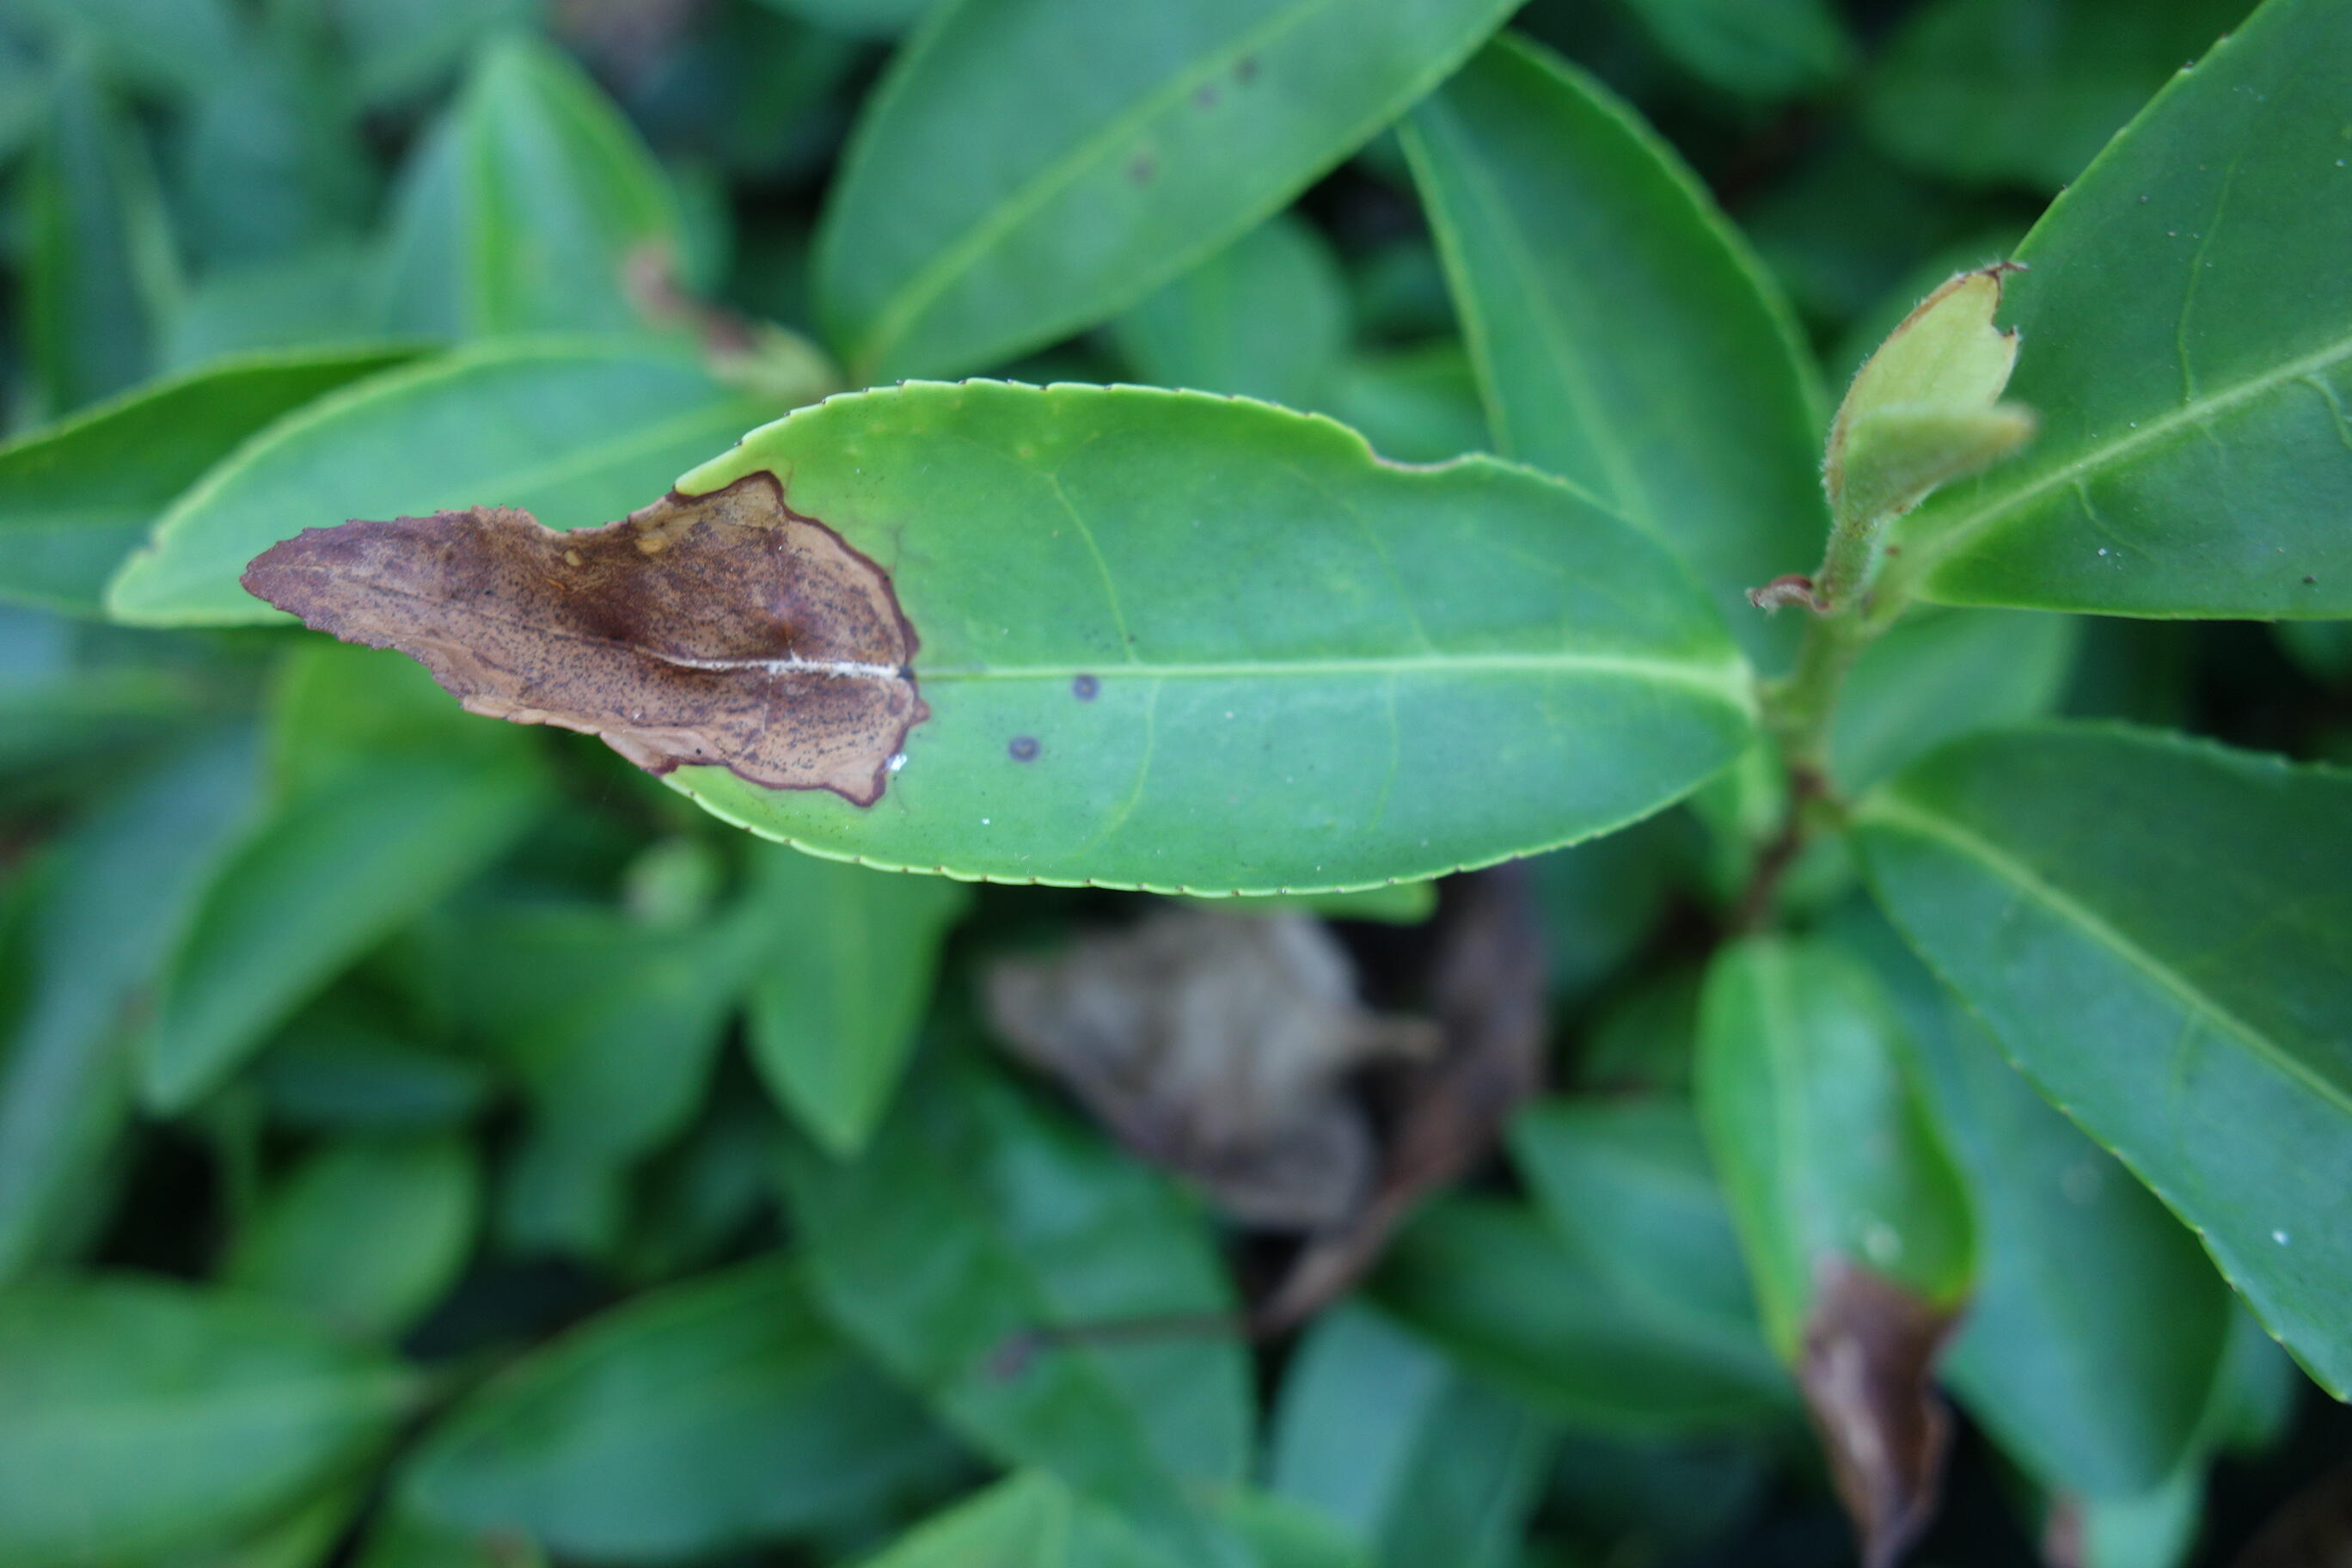tanju_high: (243, 383, 1781, 896)
